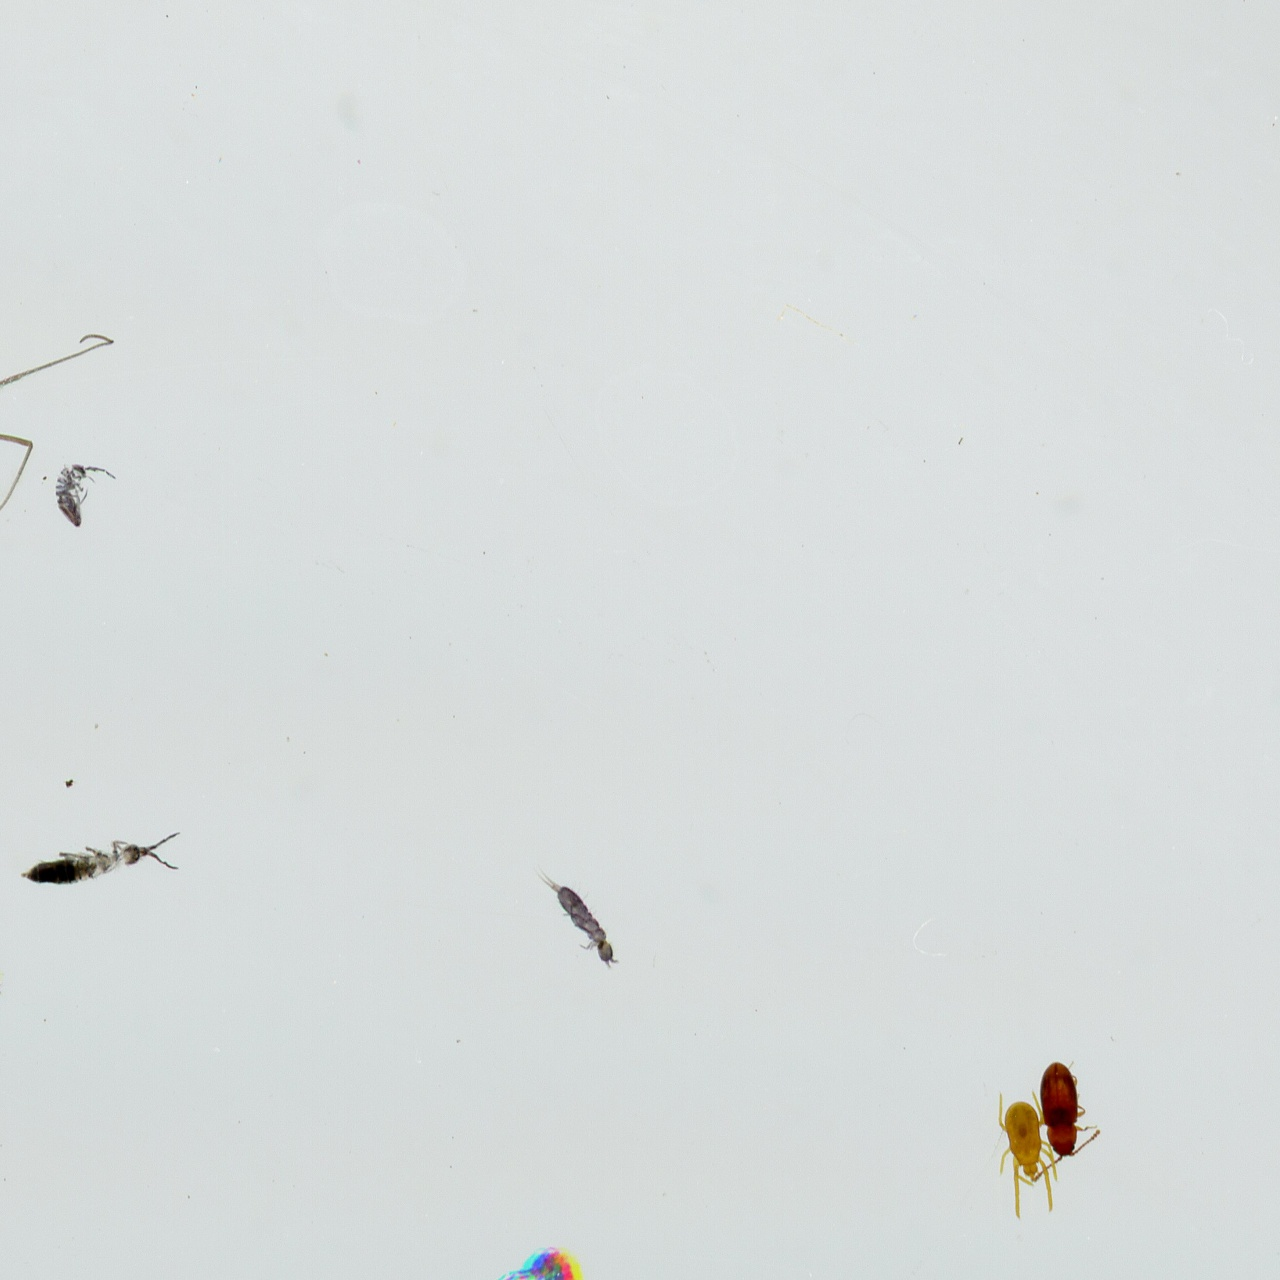arthropod: (0, 331, 115, 533), (522, 850, 638, 989), (2, 826, 188, 899), (990, 1088, 1062, 1221), (1031, 1055, 1102, 1180), (50, 460, 119, 530), (478, 1244, 591, 1280), (0, 948, 11, 1008)
